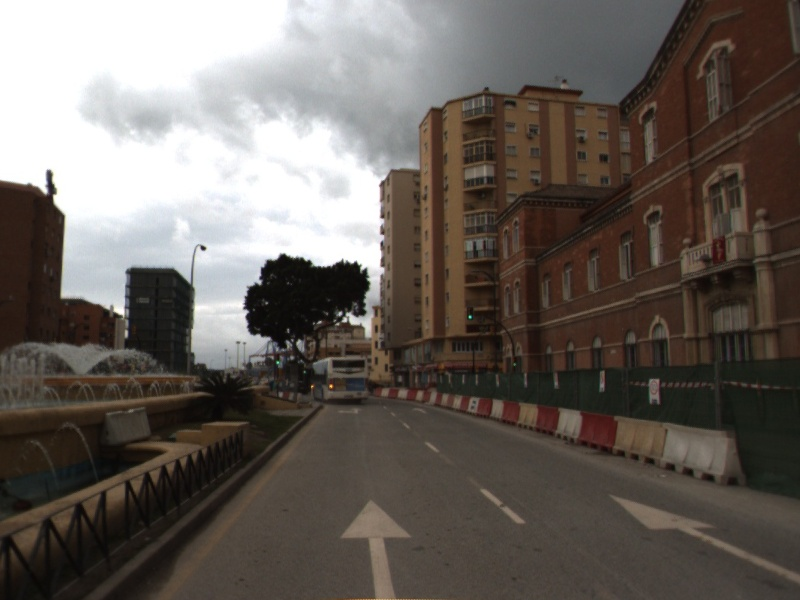STRAIGHT: (604, 490, 800, 582), (338, 497, 415, 600), (409, 405, 428, 415)
STRAIGHT_LEFT: (334, 406, 365, 415)
